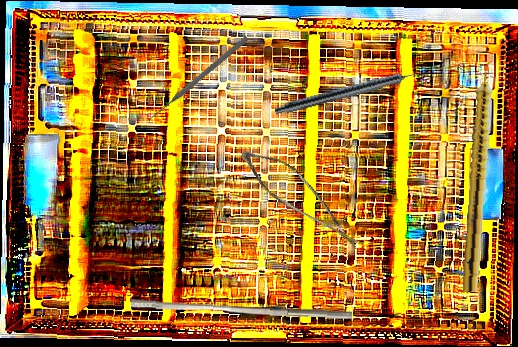Handpiece: (461, 60, 499, 293), (273, 65, 428, 120)
Micro Scissor: (227, 142, 379, 251)
Pusher: (148, 34, 250, 122), (130, 298, 353, 320)
